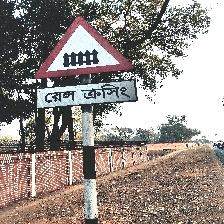Rail-crossing: (33, 14, 137, 111)
